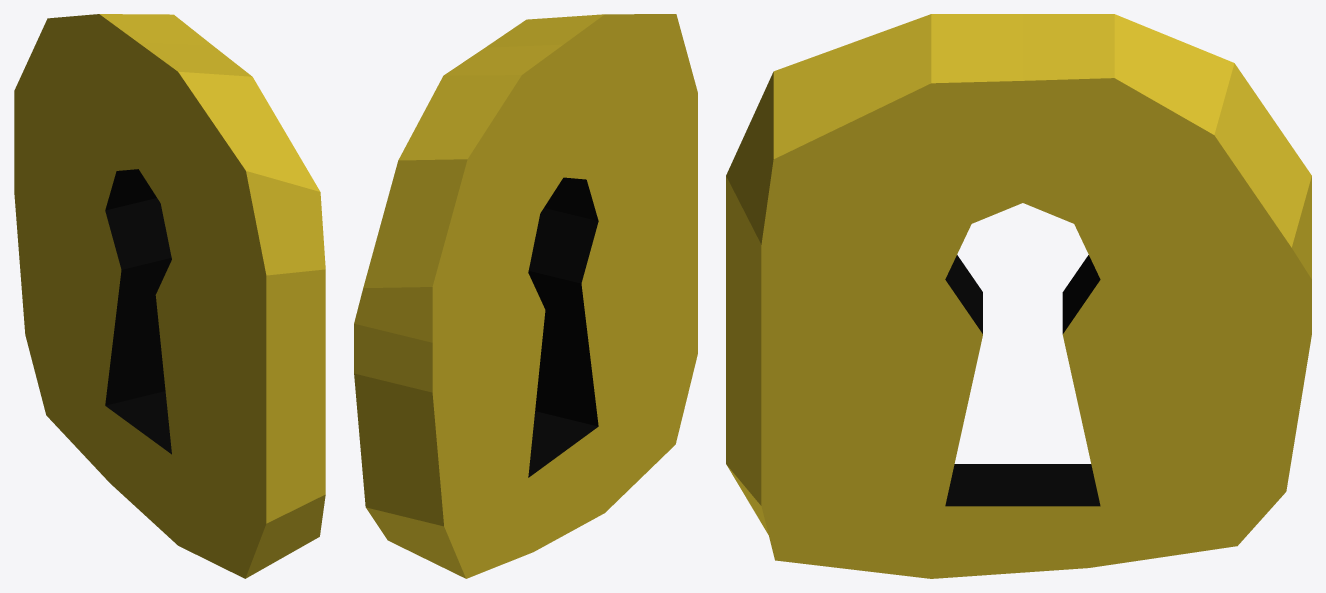
The model's file is CerraduraAmarillo.fbx.
3 renders of one model, left to right at view 1: azimuth 30°, elevation 25°; view 2: azimuth 150°, elevation 25°; view 3: azimuth 270°, elevation 25°, orthographic. The views are drawn at different scales.
Parts seen in each view (by area): view 1: Cube; view 2: Cube; view 3: Cube.
Part boxes in pixels (x1,y1,x2,y2): Cube: (14,14,325,578); Cube: (354,14,697,578); Cube: (726,14,1311,578).
Size of the model in its own units: 2.54 by 15.41 by 14.86.
